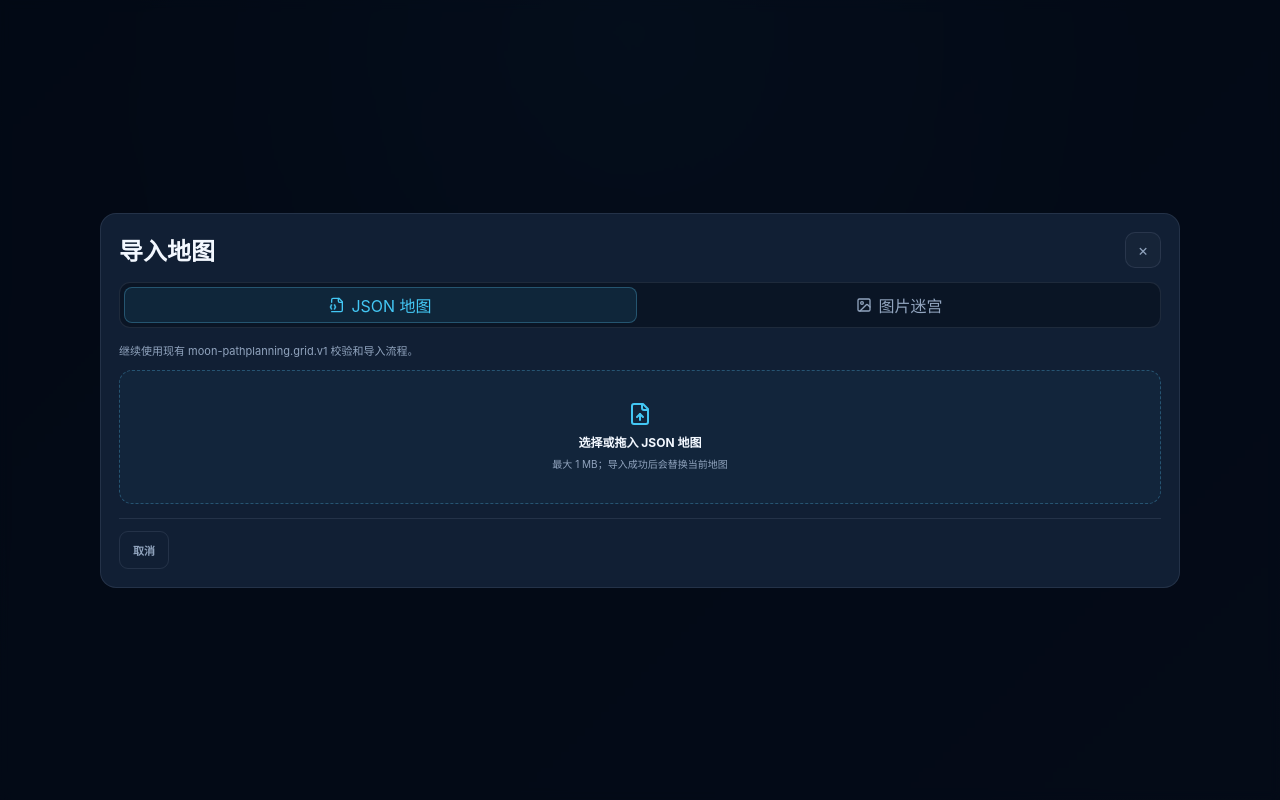
Test: MapImportModal 图片正式导入 › success 显示确认入口，其他分析状态不显示
The width and height of the screenshot is (1280, 800).
What coordinates should you click on to do the following:
click the tab "图片迷宫"
I would click on:
 (900, 304)
Its box is [643,286,1156,322].
(page scrolled)
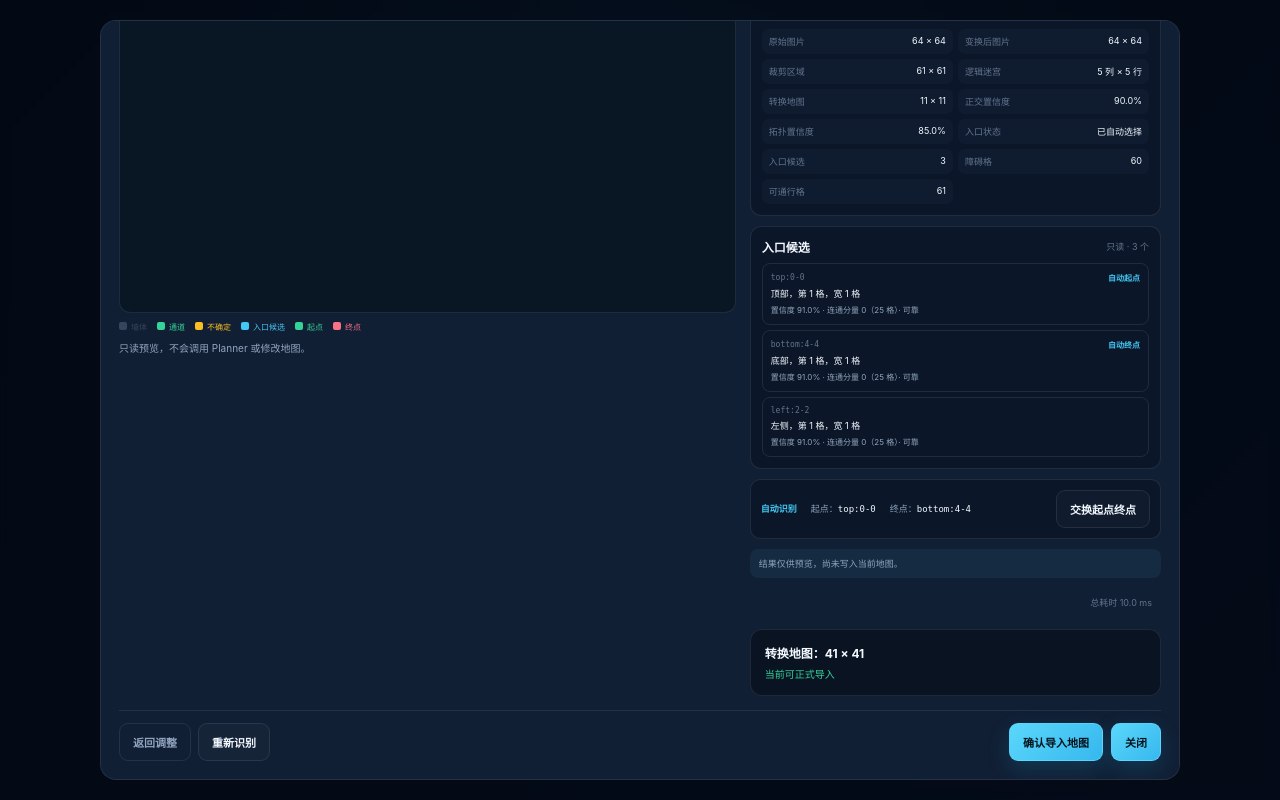
Check: the button "确认导入地图" is enabled, box [1009,722,1103,760]
